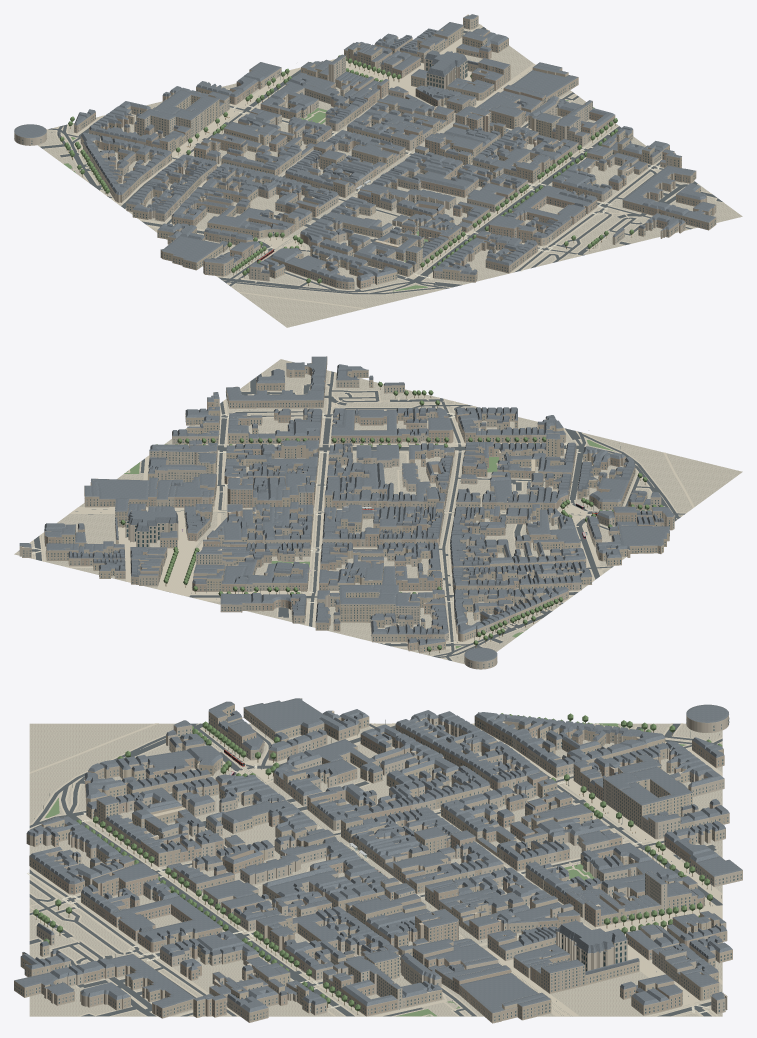
File: vesle.glb
3 renders of one model, top to bottom at view 1: azimuth 30°, elevation 25°; view 2: azimuth 150°, elevation 25°; view 3: azimuth 270°, elevation 25°, orthographic. The views are drawn at different scales.
Visible parts, largest first — view 1: Matériau 10, Matériau 0, Matériau 13, Matériau 12, Matériau 6, Matériau 11, Matériau 9, Matériau 61, Matériau 8, Matériau 7, Matériau 1, Matériau 19; view 2: Matériau 10, Matériau 0, Matériau 61, Matériau 13, Matériau 6, Matériau 11, Matériau 12, Matériau 9, Matériau 1, Matériau 8, Matériau 7, Matériau 19; view 3: Matériau 10, Matériau 0, Matériau 13, Matériau 12, Matériau 11, Matériau 6, Matériau 9, Matériau 61, Matériau 8, Matériau 7, Matériau 1, Matériau 19 (+1 smaller).
Boxes of the visible parts, left/top/right/bottom form: Matériau 10: left=14, top=14, right=715, bottom=281; Matériau 0: left=37, top=24, right=742, bottom=327; Matériau 13: left=14, top=14, right=682, bottom=283; Matériau 12: left=74, top=33, right=716, bottom=289; Matériau 6: left=80, top=26, right=681, bottom=284; Matériau 11: left=91, top=31, right=676, bottom=288; Matériau 9: left=15, top=15, right=715, bottom=289; Matériau 61: left=39, top=25, right=723, bottom=308; Matériau 8: left=14, top=19, right=715, bottom=288; Matériau 7: left=18, top=19, right=715, bottom=288; Matériau 1: left=40, top=27, right=722, bottom=294; Matériau 19: left=59, top=55, right=633, bottom=283; Matériau 10: left=19, top=356, right=674, bottom=661; Matériau 0: left=14, top=359, right=742, bottom=664; Matériau 61: left=15, top=371, right=694, bottom=661; Matériau 13: left=19, top=372, right=661, bottom=669; Matériau 6: left=46, top=371, right=669, bottom=642; Matériau 11: left=44, top=373, right=664, bottom=651; Matériau 12: left=72, top=357, right=674, bottom=653; Matériau 9: left=20, top=356, right=674, bottom=669; Matériau 1: left=18, top=371, right=685, bottom=660; Matériau 8: left=23, top=369, right=673, bottom=667; Matériau 7: left=23, top=361, right=670, bottom=667; Matériau 19: left=120, top=381, right=663, bottom=651; Matériau 10: left=14, top=698, right=742, bottom=1013; Matériau 0: left=29, top=723, right=722, bottom=1016; Matériau 13: left=36, top=715, right=742, bottom=1015; Matériau 12: left=14, top=705, right=729, bottom=1023; Matériau 11: left=43, top=715, right=724, bottom=1017; Matériau 6: left=26, top=698, right=732, bottom=1017; Matériau 9: left=14, top=698, right=742, bottom=1022; Matériau 61: left=29, top=723, right=722, bottom=1016; Matériau 8: left=14, top=708, right=741, bottom=1021; Matériau 7: left=17, top=708, right=741, bottom=1021; Matériau 1: left=29, top=723, right=722, bottom=1016; Matériau 19: left=33, top=713, right=722, bottom=1011.
Bounding box in the file's own units: 613 × 28.33 × 600.
128 materials, 51 textured.
